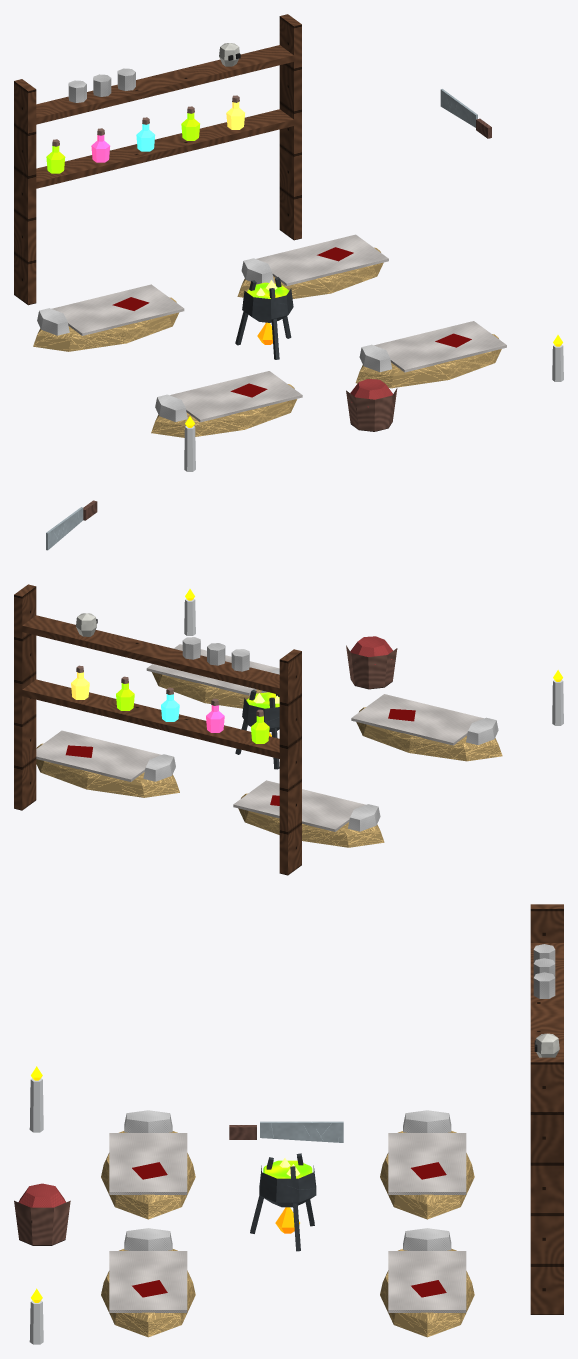
File: infirmary.glb
The picture shows the model from 3 angles, top to bottom: view 1: azimuth 30°, elevation 25°; view 2: azimuth 150°, elevation 25°; view 3: azimuth 270°, elevation 25°; orthographic projection. The views are drawn at different scales.
Visible parts, largest first — view 1: base_mesh; view 2: base_mesh; view 3: base_mesh.
Boxes of the visible parts, x1=… form: base_mesh: x1=14, y1=14, x2=563, y2=471; base_mesh: x1=14, y1=500, x2=563, y2=875; base_mesh: x1=14, y1=904, x2=563, y2=1344.
Bounding box in the file's own units: 1.9 × 1 × 1.97.
23 materials, 11 textured.
